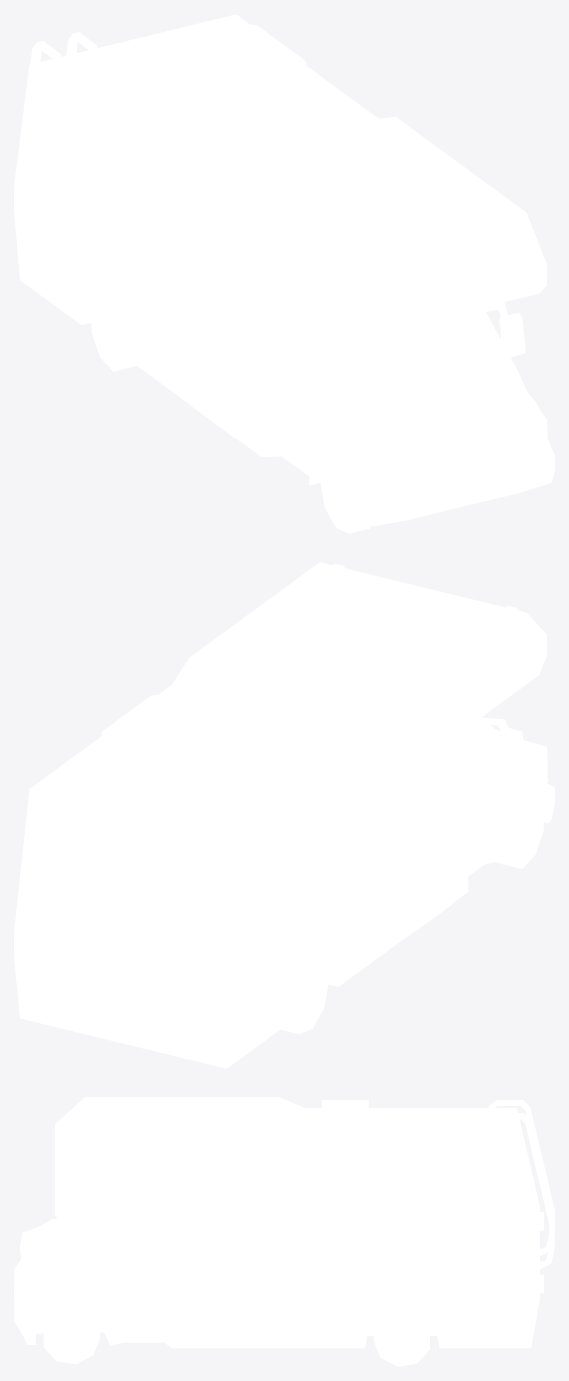
File: car-camper-vintage.glb
3 renders of one model, top to bottom at view 1: azimuth 30°, elevation 25°; view 2: azimuth 150°, elevation 25°; view 3: azimuth 270°, elevation 25°, orthographic. The views are drawn at different scales.
Parts seen in each view (by area): view 1: car-camper-vintage-base, car-camper-vintage-wheel_FR, car-camper-vintage-wheel_BR; view 2: car-camper-vintage-base, car-camper-vintage-wheel_BR, car-camper-vintage-wheel_FR; view 3: car-camper-vintage-base, car-camper-vintage-wheel_BL, car-camper-vintage-wheel_FL.
Part boxes in pixels (left/top/right/bottom): car-camper-vintage-base: left=14, top=14, right=554, bottom=526; car-camper-vintage-wheel_FR: left=320, top=458, right=370, bottom=533; car-camper-vintage-wheel_BR: left=91, top=295, right=136, bottom=371; car-camper-vintage-base: left=14, top=562, right=554, bottom=1068; car-camper-vintage-wheel_BR: left=280, top=959, right=328, bottom=1034; car-camper-vintage-wheel_FR: left=496, top=792, right=543, bottom=868; car-camper-vintage-base: left=14, top=1097, right=554, bottom=1348; car-camper-vintage-wheel_BL: left=373, top=1312, right=429, bottom=1366; car-camper-vintage-wheel_FL: left=43, top=1310, right=99, bottom=1364.
Bounding box in the file's own units: 2.54 × 3.11 × 7.29.
1 material, 1 textured.
